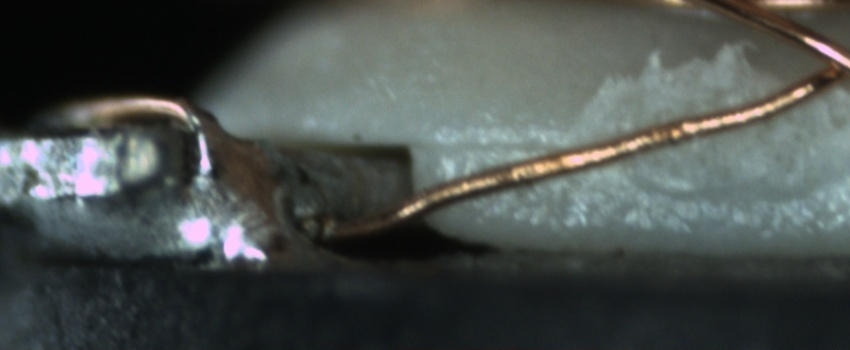CL: (798, 29, 849, 94)
DL: (418, 113, 581, 178)
TE: (56, 89, 245, 144)
